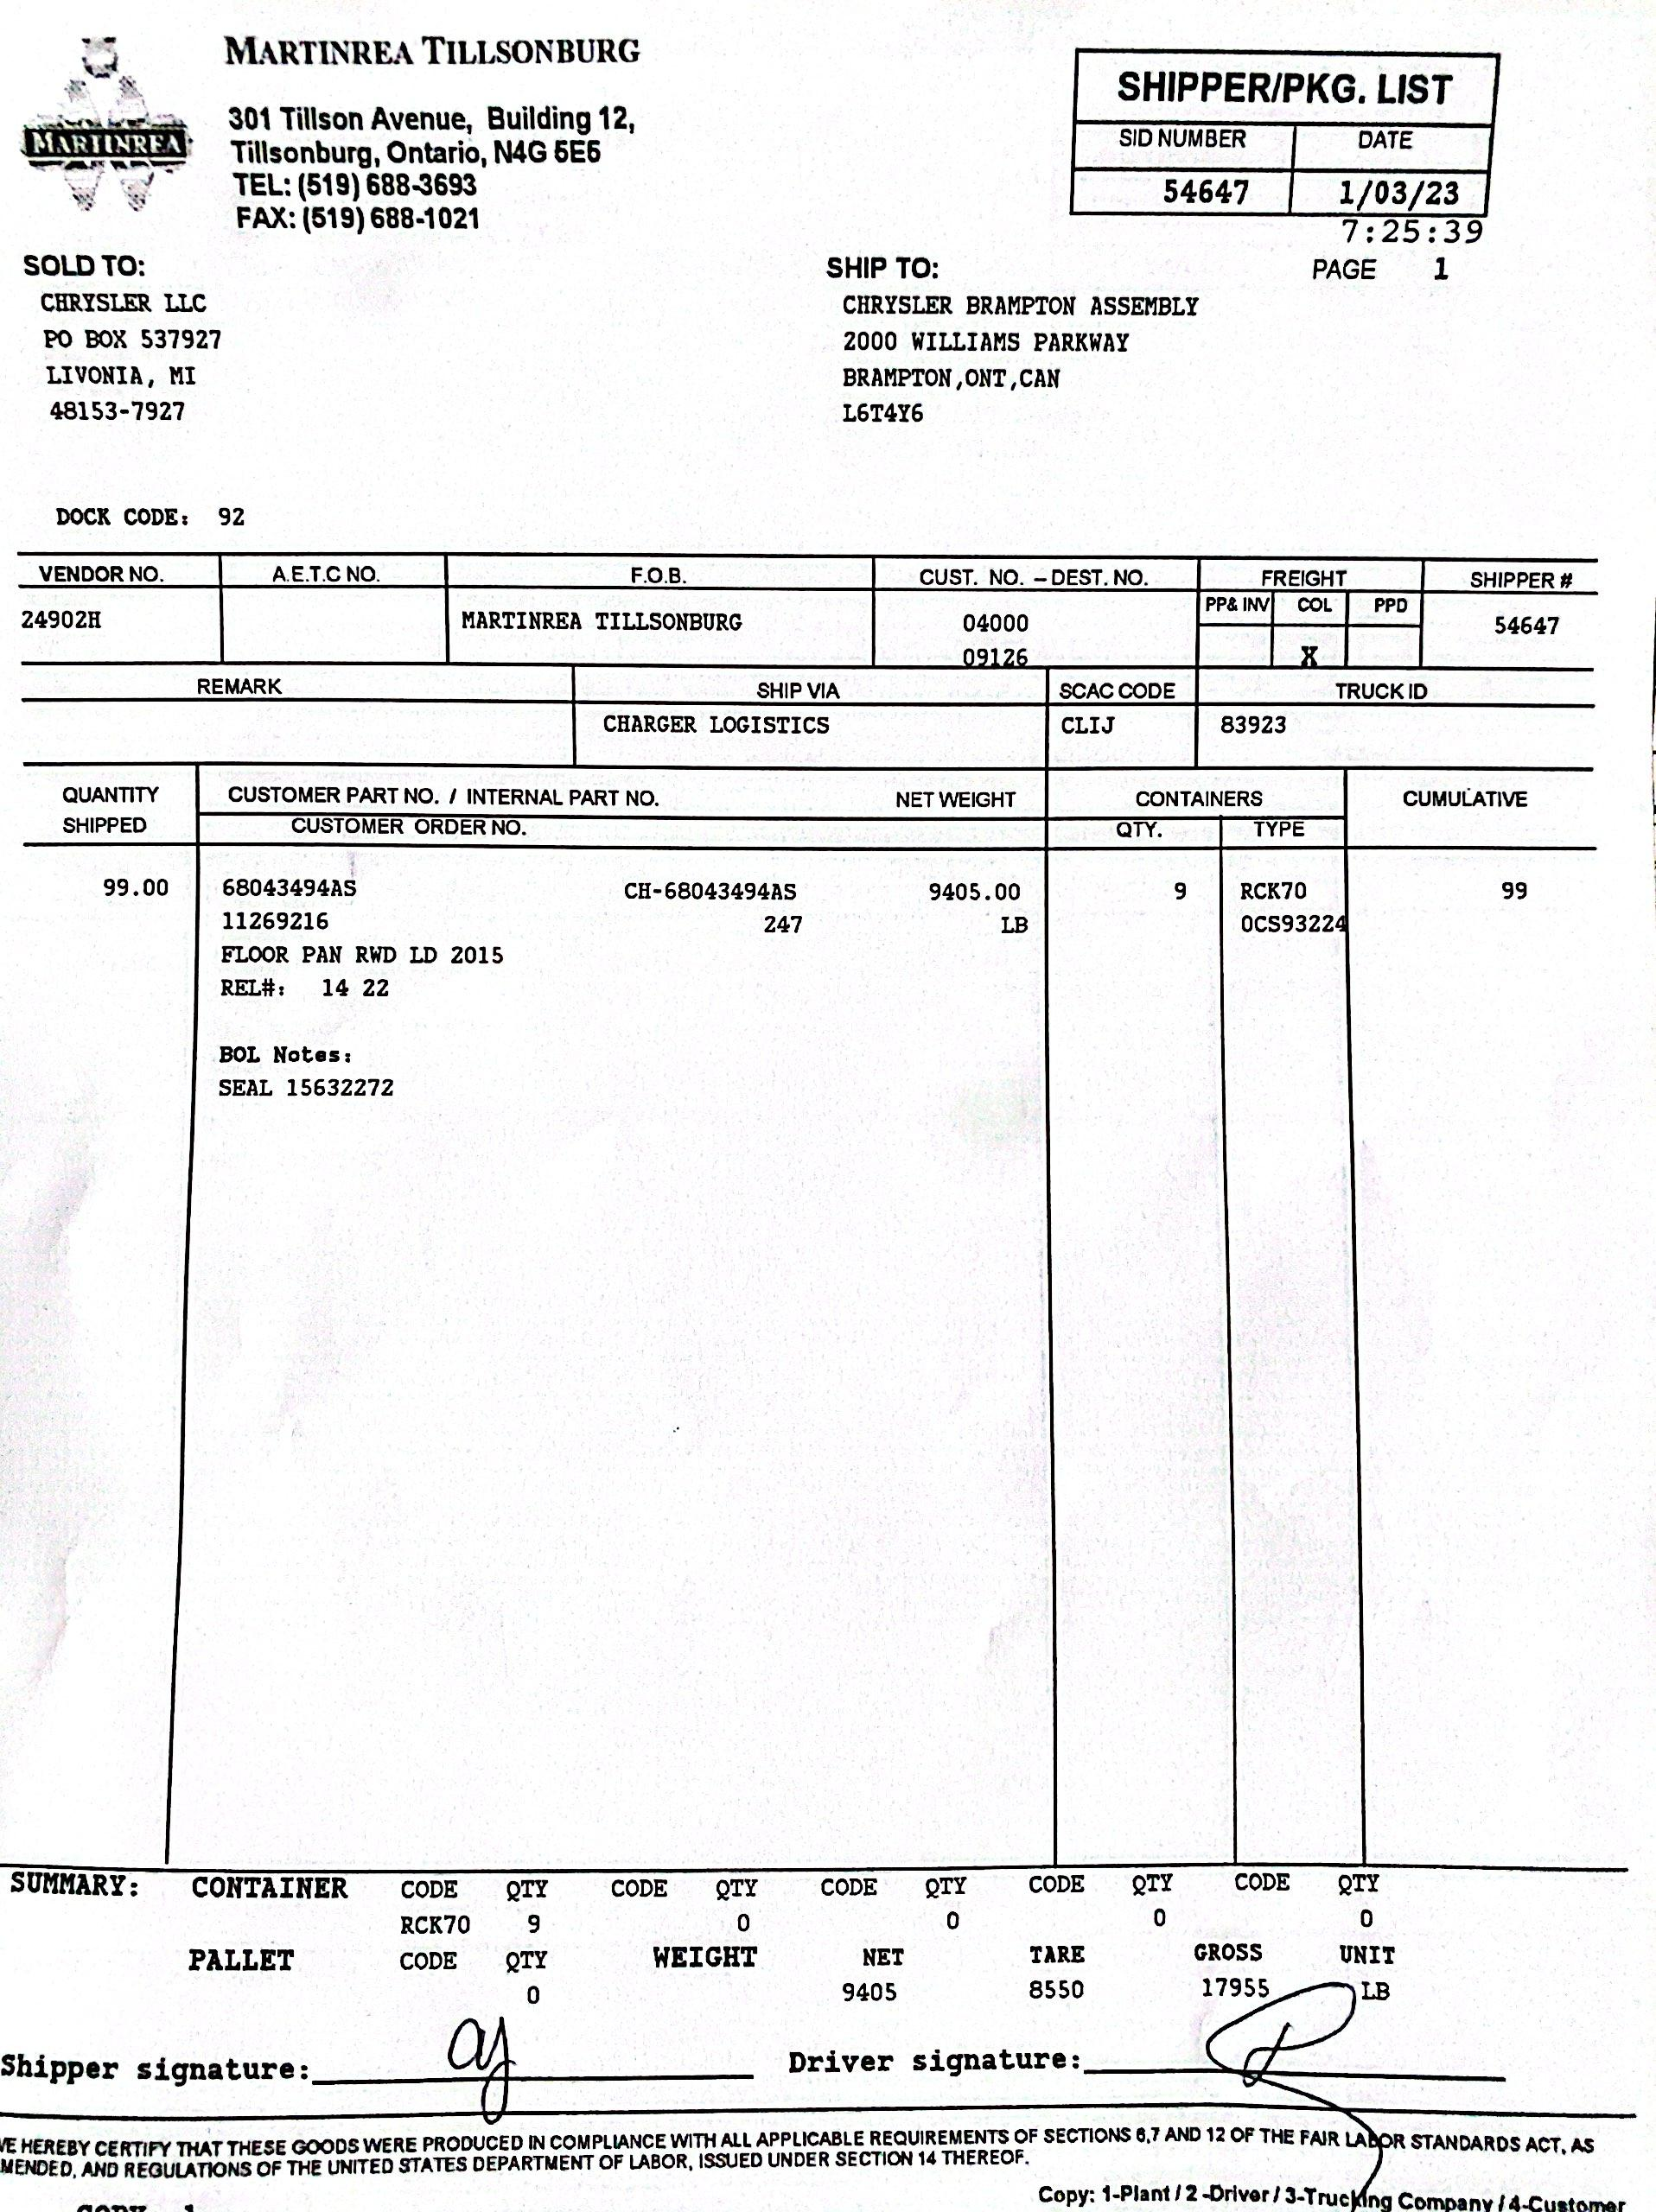B_Paragraph: (0, 2127, 1607, 2182), (230, 99, 644, 240), (831, 285, 1211, 431), (31, 289, 235, 423), (1101, 137, 1465, 207), (1028, 2182, 1646, 2212), (1322, 216, 1501, 245), (1305, 256, 1458, 289)
B_SubTitle: (2, 2043, 324, 2102), (788, 2040, 1085, 2085), (5, 1857, 144, 1908), (10, 238, 155, 285), (809, 245, 962, 289)
B_Table: (10, 548, 1633, 1116), (181, 1873, 1414, 2012)
B_Title: (210, 14, 651, 73), (1108, 52, 1475, 118)
